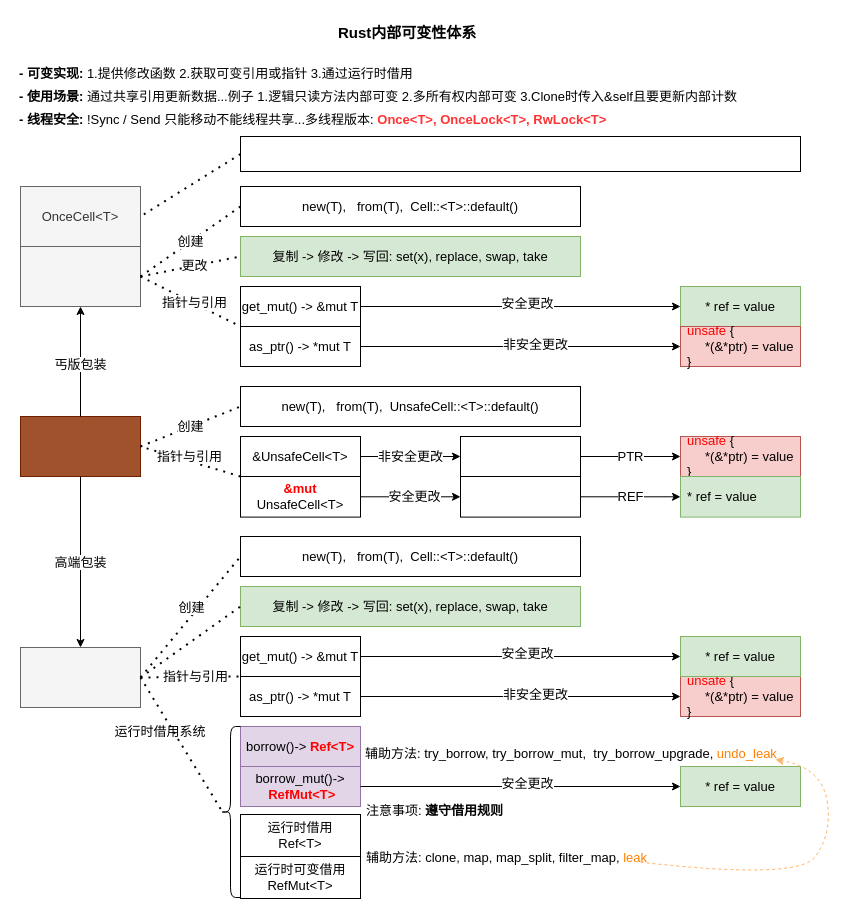
Some shapes in this 846 by 916 pixel diagram are drawn without their labels. Here are the shapes that lost their labels. From the top down, the box of each, then its label:
(240, 136, 800, 172): Cell<T>的非初始化版本...只能初始化一次.....每次操作都会判断是否已初始化
(20, 246, 140, 306): Cell<T> 资源不敏感型场景
(20, 416, 140, 476): 底层类型 UnsafeCell<T>
(460, 436, 580, 476): get() -> *mut T
(460, 476, 580, 517): get_mut()-> &mut T
(20, 646, 140, 708): RefCell<T> 资源敏感型场景
